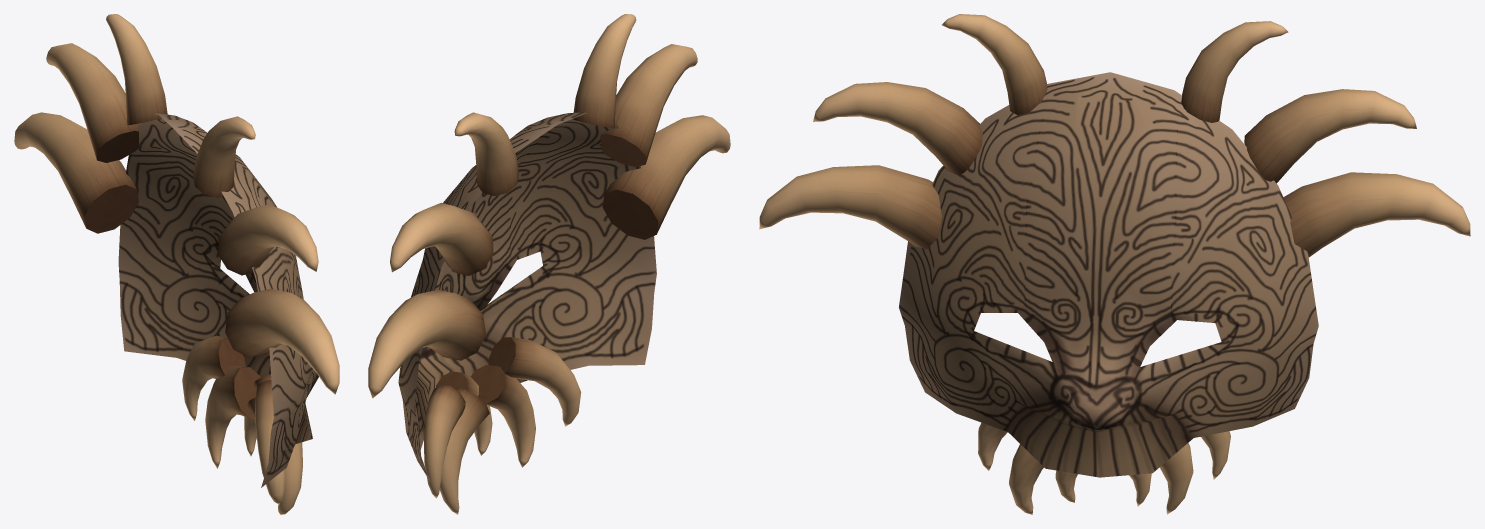
The model's file is Mask_Tribal.fbx.
The picture shows the model from 3 angles, left to right: view 1: azimuth 30°, elevation 25°; view 2: azimuth 150°, elevation 25°; view 3: azimuth 270°, elevation 25°; orthographic projection. The views are drawn at different scales.
Visible parts, largest first — view 1: Mask3, pCylinder16, pCylinder11, pCylinder15, pCylinder12, pCylinder14, pCylinder13, pCylinder3, pCylinder7, pCylinder6, pCylinder2, pCylinder5; view 2: Mask3, pCylinder11, pCylinder16, pCylinder12, pCylinder15, pCylinder13, pCylinder6, pCylinder14, pCylinder2, pCylinder7, pCylinder3, pCylinder4; view 3: Mask3, pCylinder11, pCylinder16, pCylinder15, pCylinder12, pCylinder14, pCylinder13, pCylinder2, pCylinder3, pCylinder6, pCylinder7.
Boxes of the visible parts, x1,y1,x2,y2 form: Mask3: (118, 113, 318, 487); pCylinder16: (14, 112, 138, 233); pCylinder11: (225, 288, 339, 394); pCylinder15: (46, 43, 140, 162); pCylinder12: (218, 204, 318, 275); pCylinder14: (106, 14, 167, 125); pCylinder13: (193, 116, 255, 197); pCylinder3: (205, 365, 260, 468); pCylinder7: (182, 335, 245, 420); pCylinder6: (255, 380, 285, 504); pCylinder2: (247, 397, 302, 514); pCylinder5: (244, 416, 256, 456); Mask3: (398, 112, 656, 482); pCylinder11: (602, 115, 730, 239); pCylinder16: (368, 289, 485, 398); pCylinder12: (600, 44, 697, 167); pCylinder15: (390, 202, 493, 275); pCylinder13: (573, 14, 636, 128); pCylinder6: (488, 337, 581, 426); pCylinder14: (454, 112, 518, 195); pCylinder2: (471, 365, 535, 467); pCylinder7: (424, 385, 465, 498); pCylinder3: (439, 388, 489, 514); pCylinder4: (436, 371, 492, 455); Mask3: (899, 72, 1318, 477); pCylinder11: (759, 165, 941, 249); pCylinder16: (1283, 172, 1470, 257); pCylinder15: (1244, 89, 1416, 183); pCylinder12: (813, 82, 982, 174); pCylinder14: (1181, 21, 1288, 122); pCylinder13: (942, 14, 1047, 115); pCylinder2: (1009, 444, 1043, 514); pCylinder3: (1159, 443, 1193, 514); pCylinder6: (978, 422, 1007, 470); pCylinder7: (1200, 431, 1230, 479).
Size of the model in its own units: 3.09 by 7.41 by 10.28.
